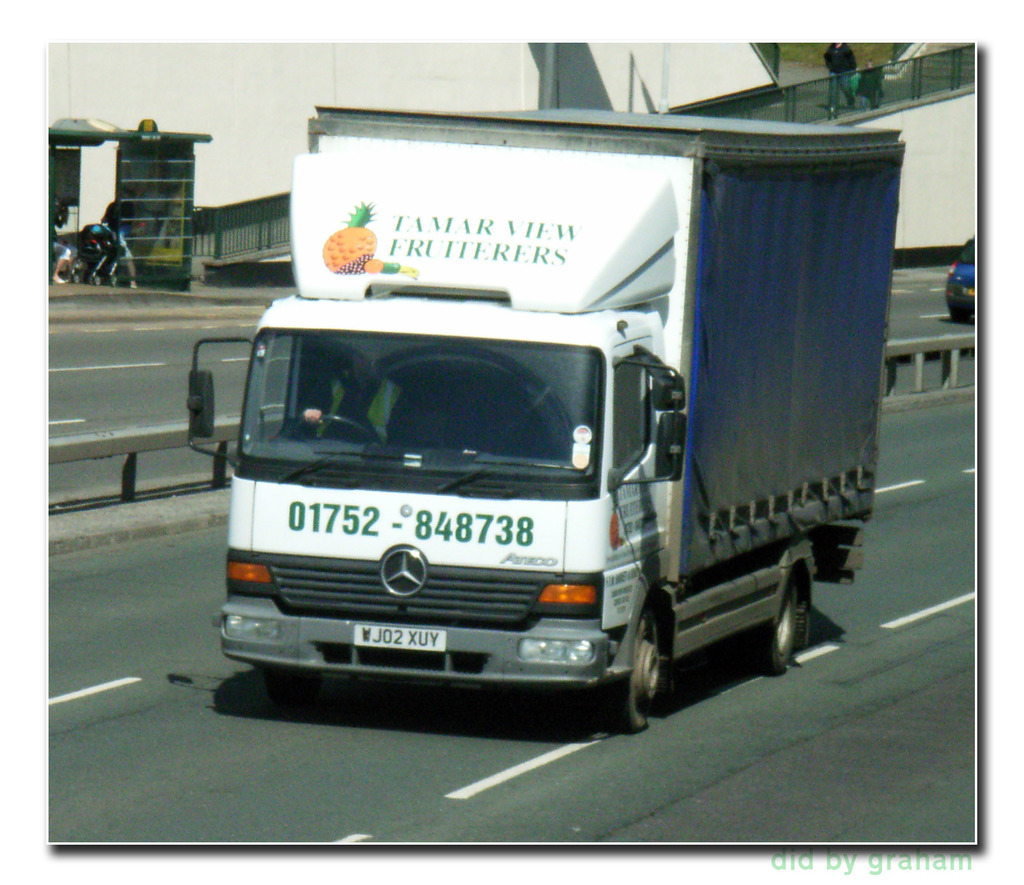truck: (152, 83, 929, 753)
